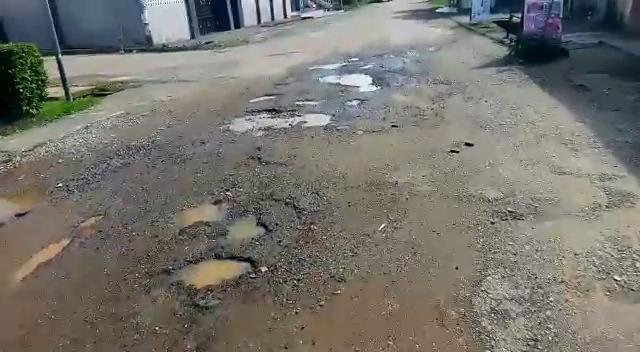pothole: (174, 200, 270, 244), (167, 255, 262, 290), (218, 107, 331, 133), (320, 70, 380, 89), (248, 94, 283, 103)
